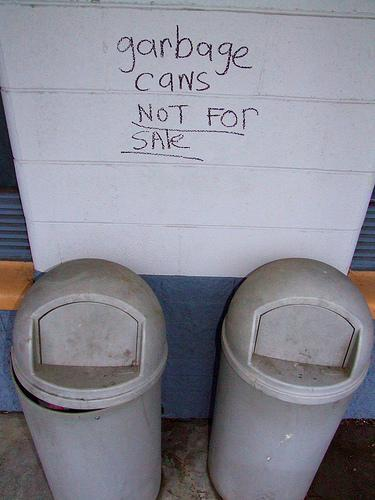Bote de Basura: (21, 249, 180, 499), (210, 255, 372, 499)
